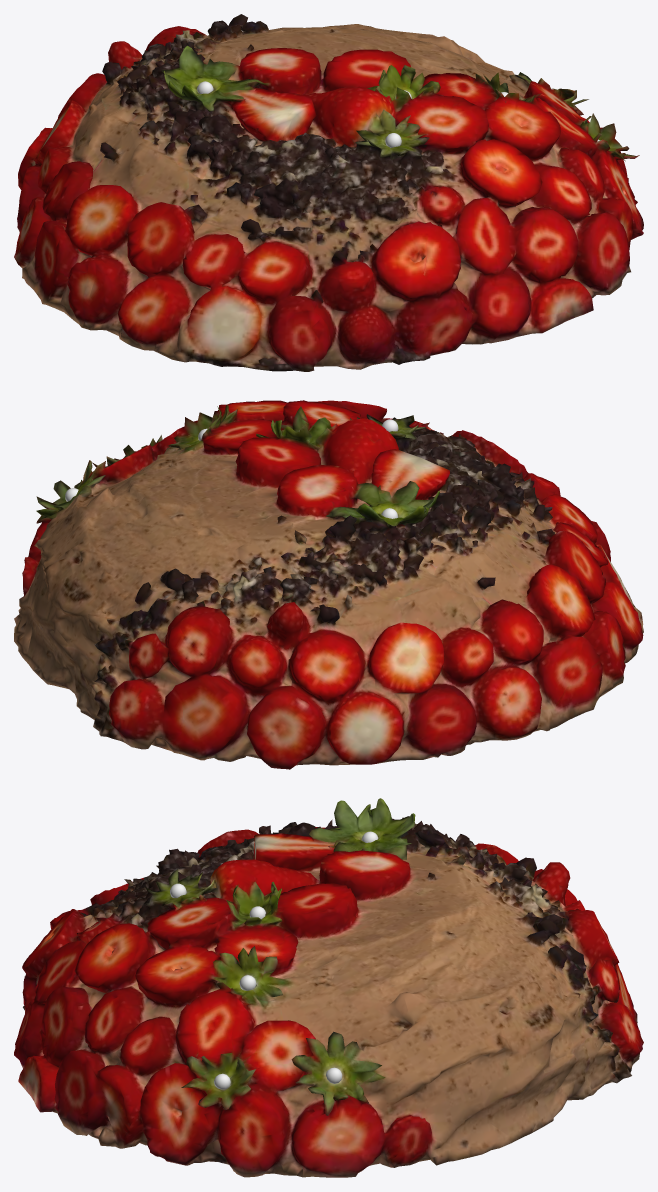
The model's file is strawberry_chocolate_cake.glb.
3 renders of one model, top to bottom at view 1: azimuth 30°, elevation 25°; view 2: azimuth 150°, elevation 25°; view 3: azimuth 270°, elevation 25°, orthographic. The views are drawn at different scales.
Parts seen in each view (by area): view 1: strawberry_chocolate_cake; view 2: strawberry_chocolate_cake; view 3: strawberry_chocolate_cake.
Boxes of the visible parts, x1,y1,x2,y2 form: strawberry_chocolate_cake: (14, 14, 643, 371); strawberry_chocolate_cake: (14, 400, 643, 769); strawberry_chocolate_cake: (14, 798, 643, 1177).
Size of the model in its own units: 0.2443 by 0.0792 by 0.2403.
1 material, 1 textured.
